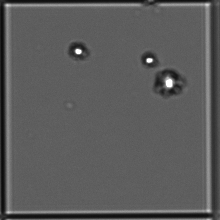Living Cell: (155, 66, 185, 101), (66, 36, 89, 62), (142, 48, 158, 68)
